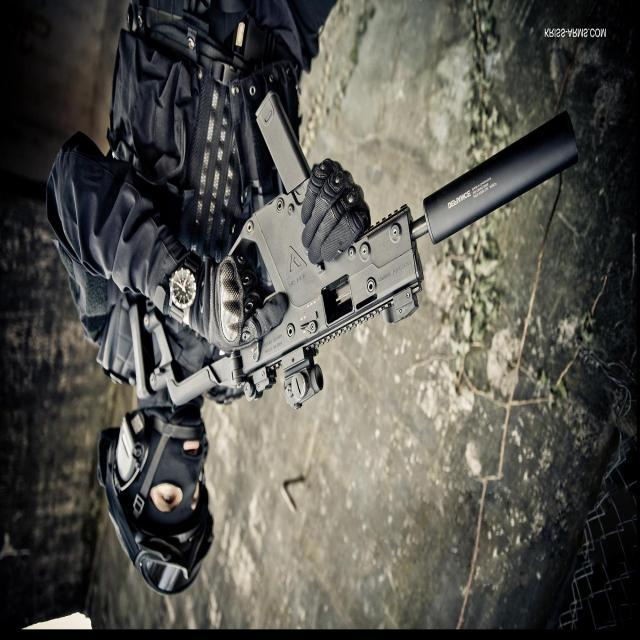weapon: (127, 84, 584, 408)
